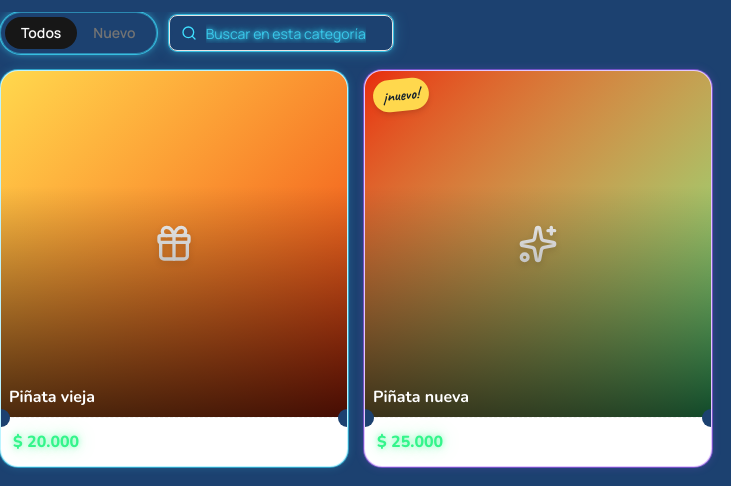
Test: CategoryProductsFilter › filters to only new products when 'Nuevo' is selected
Click the radio button labelled "Nuevo" at (114, 33), box [77,17,152,49]
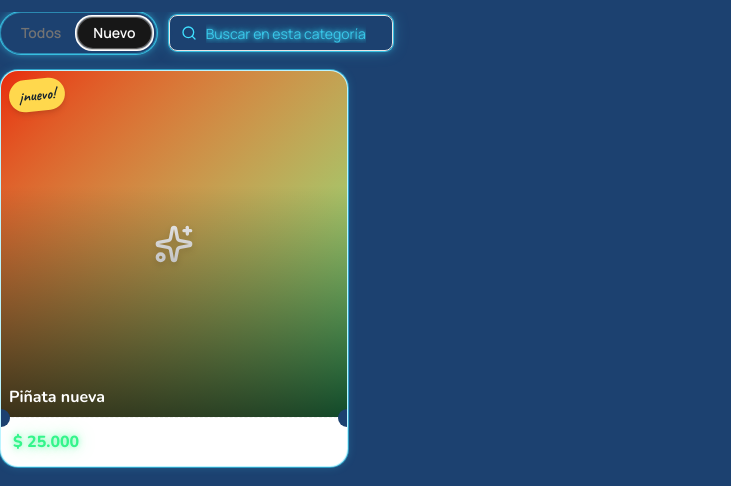
Expected: the text "Piñata nueva" is shown, [9,386,105,408]
Result: the link "Piñata vieja" is gone
